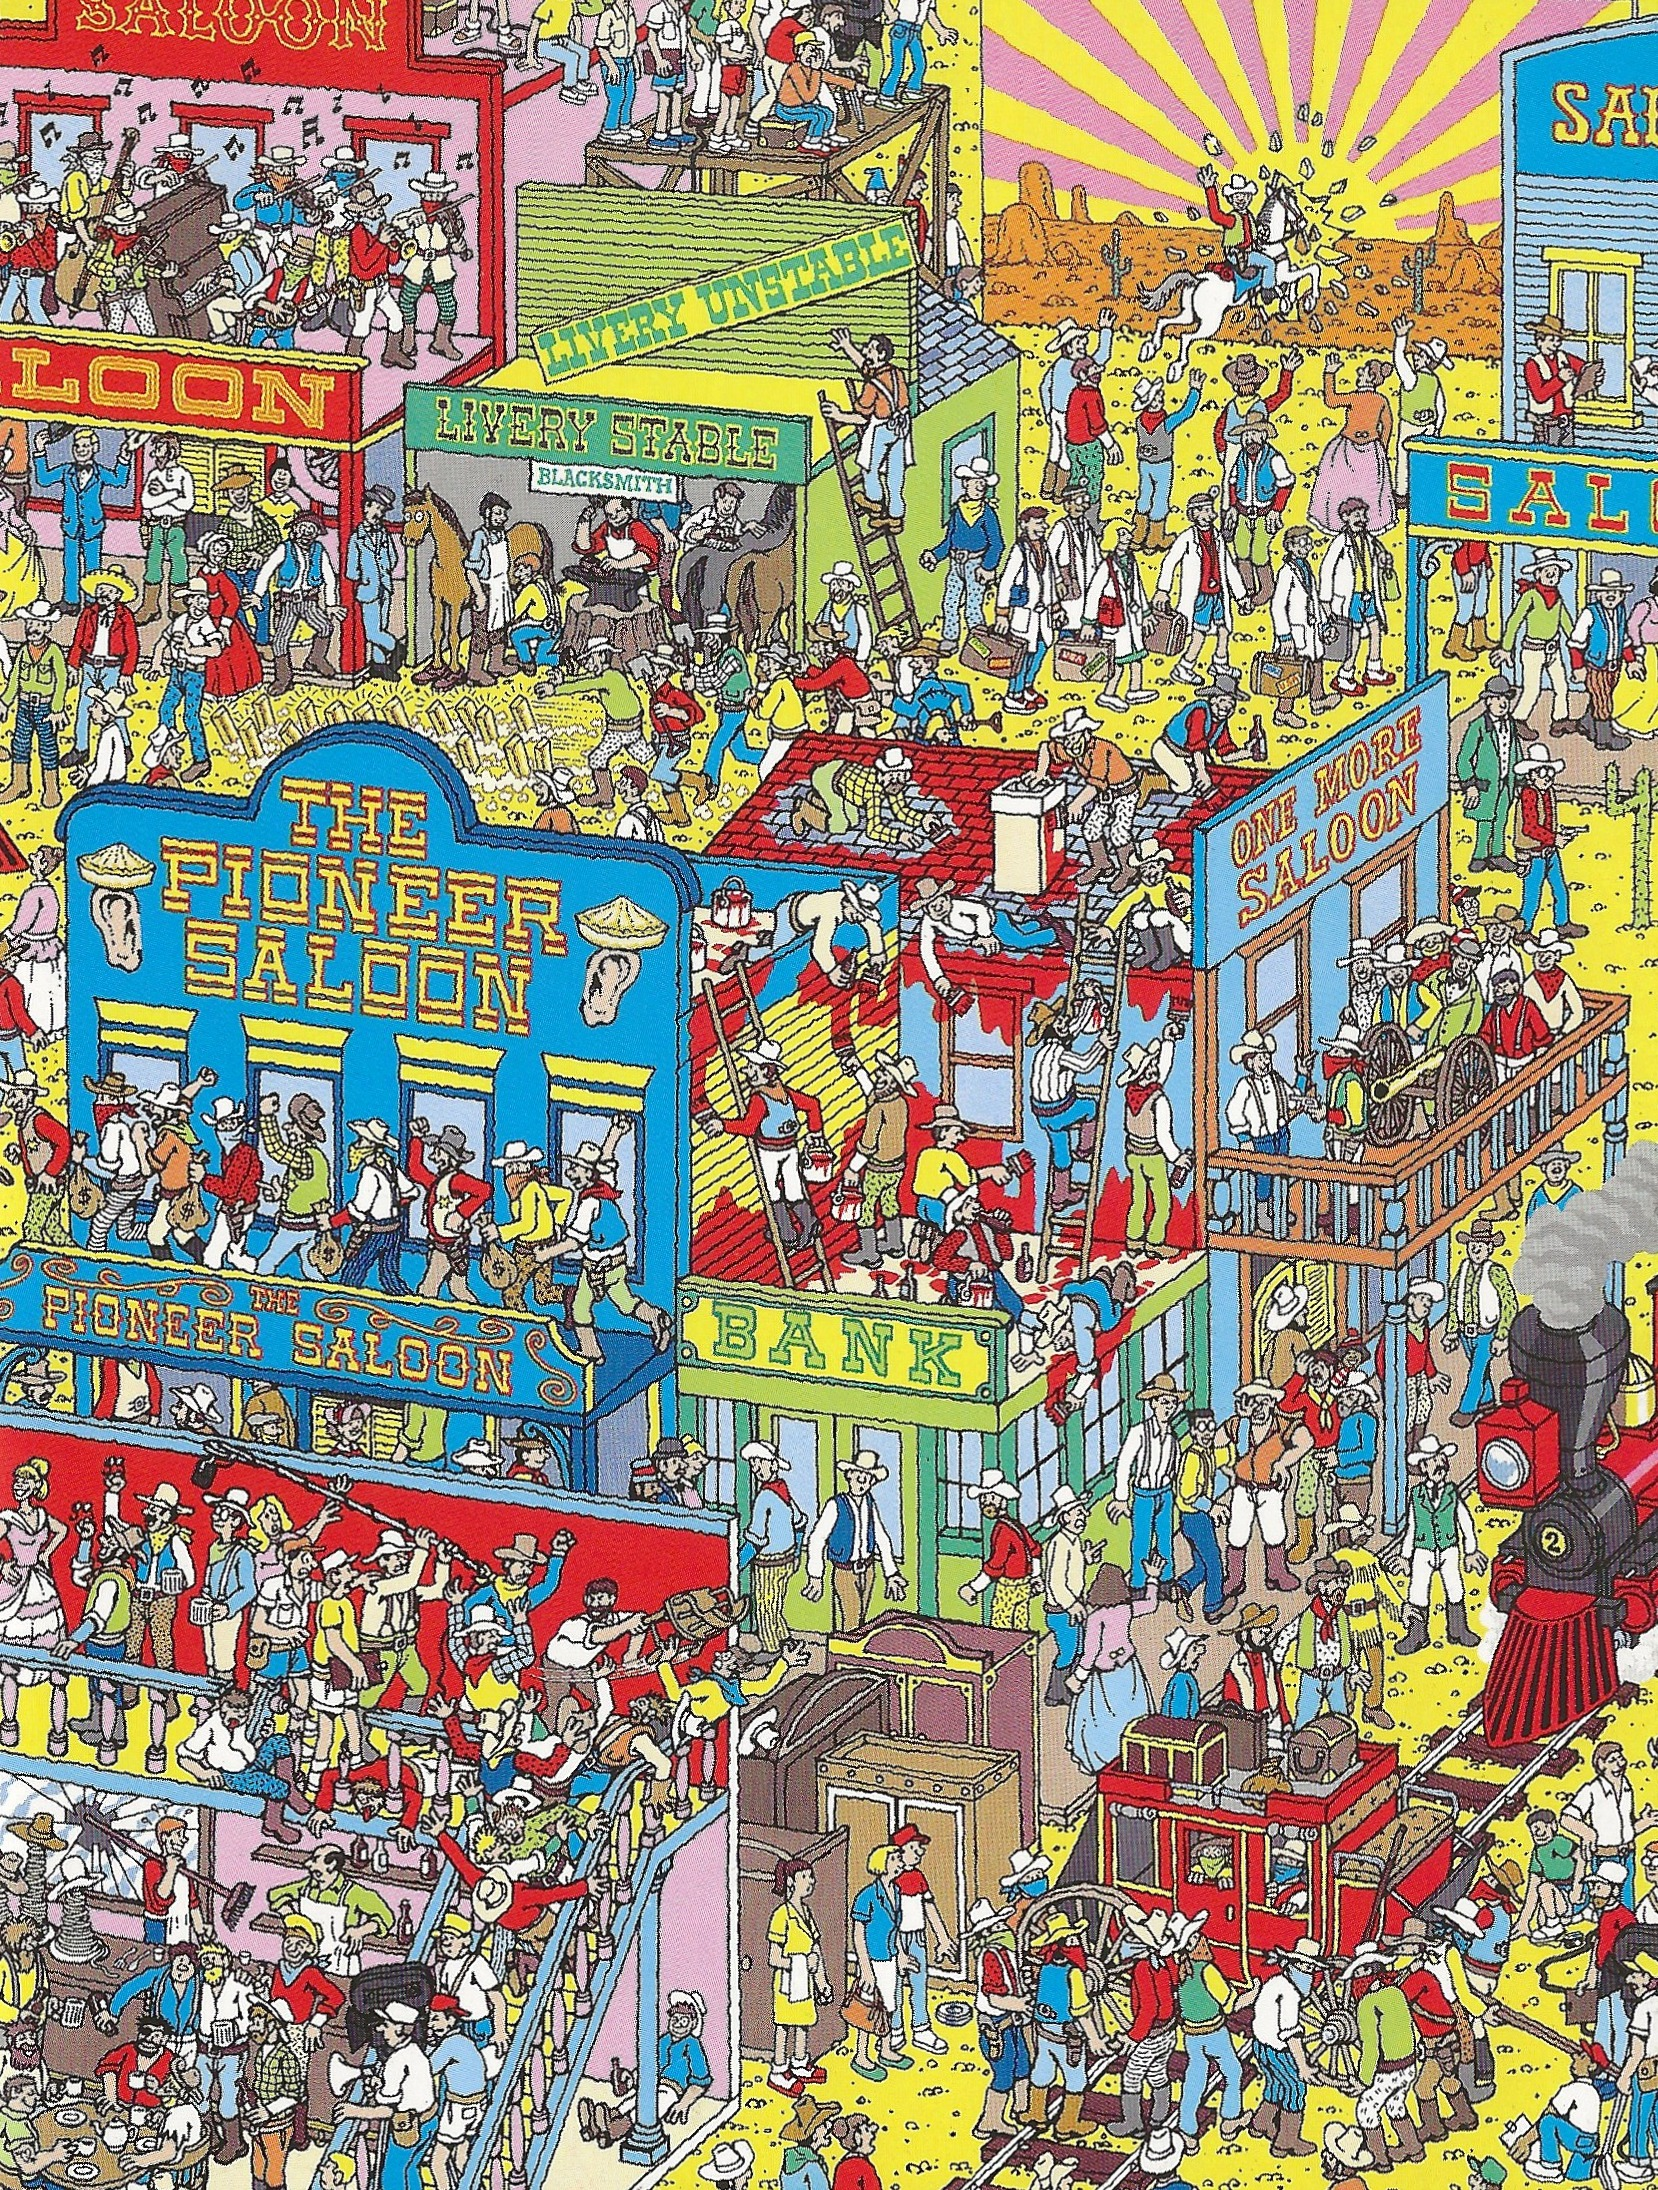Charlie: (1447, 883, 1480, 945)
Wizard Whitebeard: (862, 153, 904, 205)
